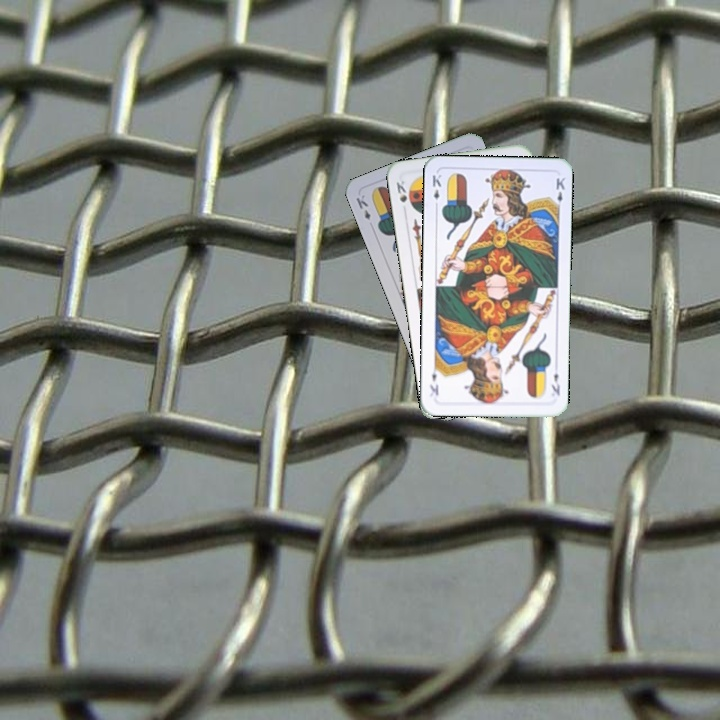EK: (352, 190, 373, 223), (428, 170, 444, 211), (547, 369, 562, 398)
SK: (392, 176, 414, 208)
